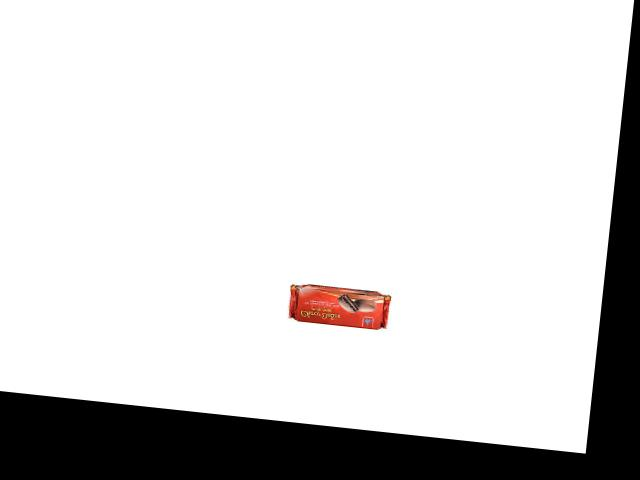chocolate: (286, 273, 394, 331)
